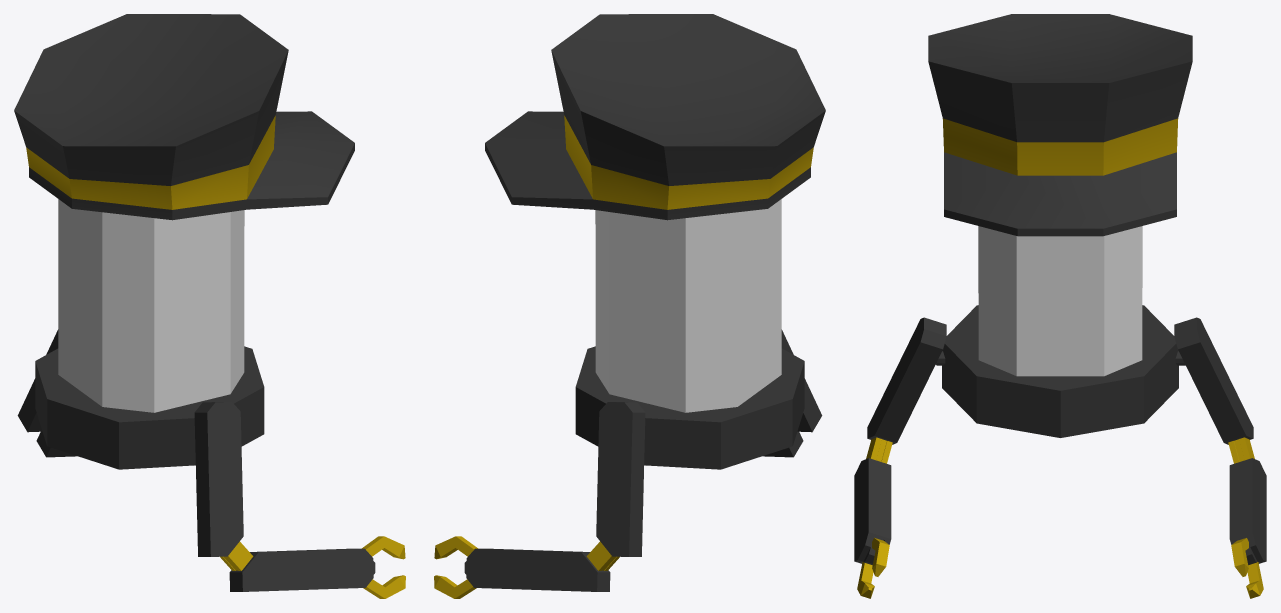
Rendered from 警備ロボ君.fbx.
3 views of the same model, side by side, from view 1: azimuth 30°, elevation 25°; view 2: azimuth 150°, elevation 25°; view 3: azimuth 270°, elevation 25° (orthographic).
Parts seen in each view (by area): view 1: polySurface11, polySurface10, pCube16, polySurface8; view 2: polySurface11, polySurface10, pCube16, polySurface8; view 3: polySurface11, polySurface10, pCube16, polySurface8.
Part boxes in pixels (box(x1,y1,x2,y2)): polySurface11: box(14, 14, 354, 220); polySurface10: box(58, 199, 244, 412); pCube16: box(17, 329, 405, 598); polySurface8: box(35, 346, 264, 469); polySurface11: box(485, 14, 825, 220); polySurface10: box(595, 199, 781, 412); pCube16: box(434, 329, 822, 598); polySurface8: box(575, 346, 804, 469); polySurface11: box(928, 14, 1192, 236); polySurface10: box(978, 226, 1142, 376); pCube16: box(854, 317, 1266, 598); polySurface8: box(942, 305, 1178, 437).
Bounding box in the file's own units: 1.46 × 2.37 × 1.77.
